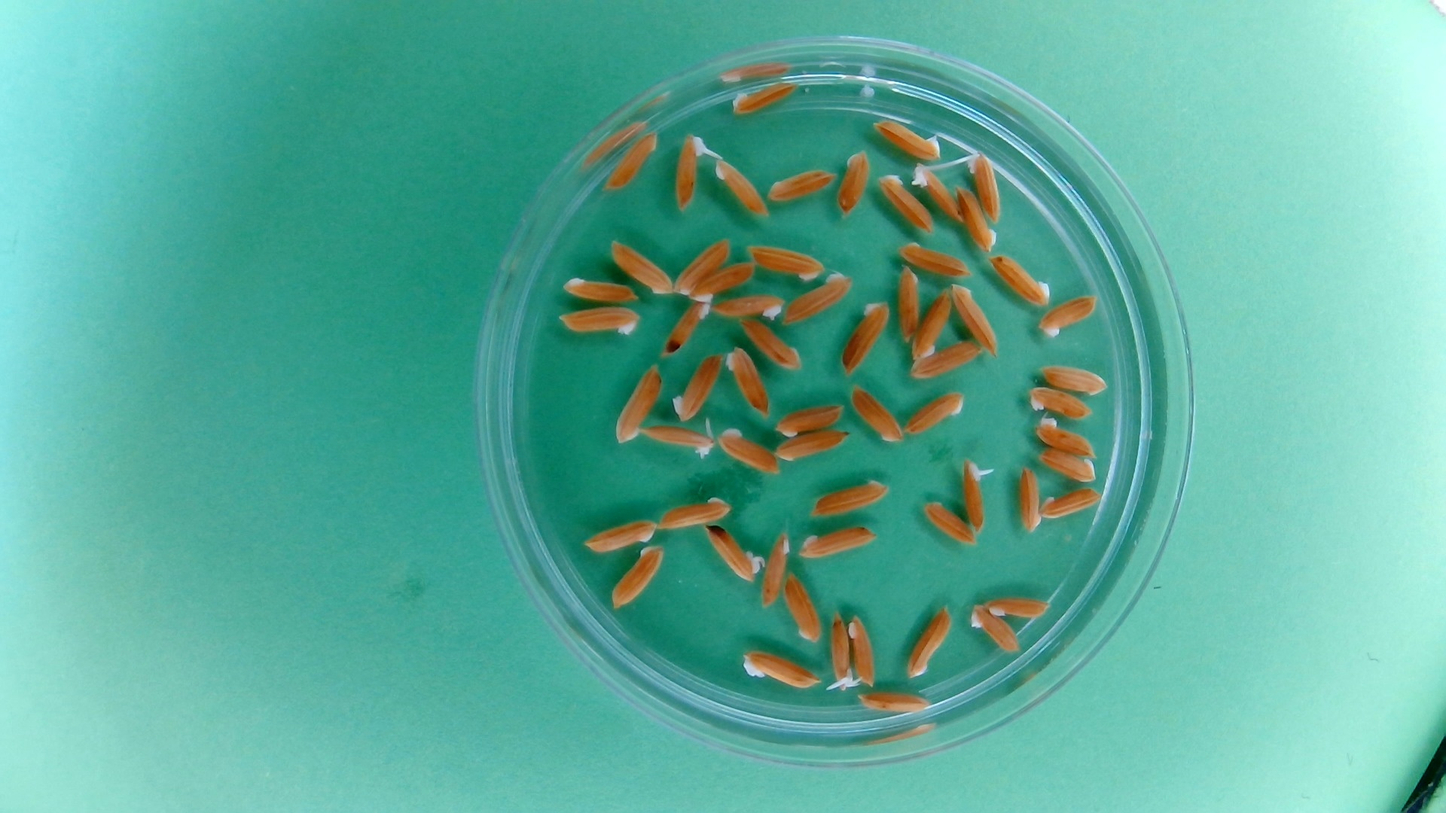no: (612, 361, 664, 447), (840, 297, 892, 379), (608, 237, 675, 297), (782, 272, 853, 327), (609, 543, 666, 611), (950, 282, 1001, 358), (601, 129, 660, 194), (876, 171, 934, 237), (905, 603, 954, 681), (737, 316, 804, 373), (738, 647, 822, 692), (672, 351, 723, 425), (807, 477, 892, 521), (673, 235, 734, 296), (723, 343, 771, 419), (988, 251, 1052, 308), (712, 157, 769, 219), (849, 382, 904, 446), (745, 241, 827, 283), (909, 287, 953, 363), (715, 426, 780, 477), (795, 524, 879, 563), (908, 339, 984, 382), (685, 259, 758, 303), (901, 388, 966, 437), (660, 297, 712, 358), (871, 116, 943, 160), (781, 570, 823, 645), (895, 239, 975, 278), (954, 182, 997, 254), (1036, 292, 1100, 340), (555, 303, 642, 338), (771, 401, 847, 440), (656, 494, 735, 531), (765, 166, 837, 206), (834, 148, 873, 221), (773, 428, 852, 464), (581, 517, 657, 554), (1032, 414, 1098, 456), (921, 499, 978, 547), (729, 79, 800, 117), (1025, 383, 1096, 421), (1036, 361, 1110, 397), (557, 273, 640, 305), (969, 603, 1021, 653), (760, 530, 792, 611), (1035, 446, 1099, 485), (711, 291, 785, 324), (854, 689, 935, 718), (1039, 486, 1104, 521), (894, 264, 922, 343), (984, 592, 1053, 622), (1016, 464, 1044, 536)
yes: (703, 523, 763, 584), (912, 161, 960, 221), (965, 150, 1002, 223), (673, 132, 708, 209), (640, 423, 715, 457), (825, 614, 857, 692), (960, 456, 991, 533)
